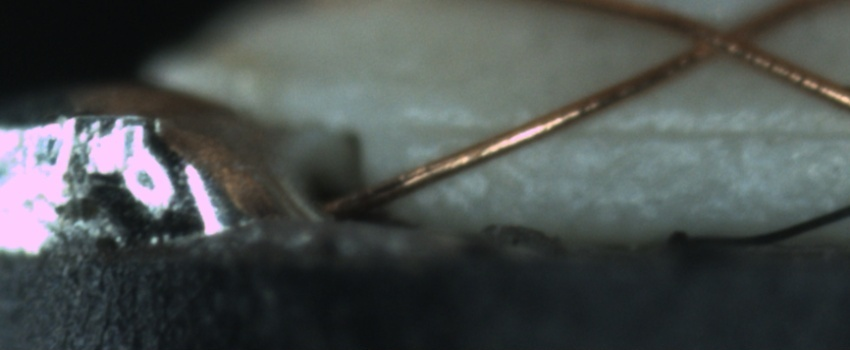CL: (675, 2, 774, 69)
DL: (404, 101, 850, 164)
